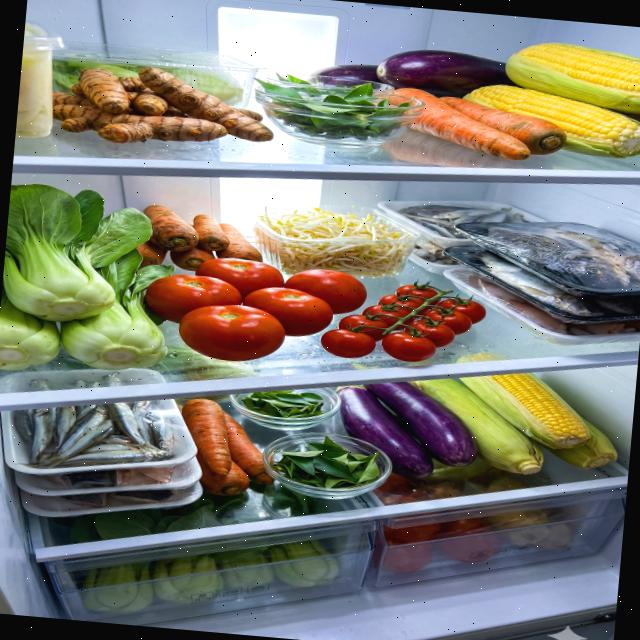bean_sprouts: (252, 202, 416, 286)
carrot: (384, 86, 571, 164), (174, 396, 282, 501), (134, 203, 268, 280)
corn: (400, 362, 624, 482), (458, 34, 640, 161)
curry_leaves: (248, 70, 416, 146), (268, 431, 382, 493), (239, 385, 328, 422)
eggplant: (327, 376, 484, 484), (308, 38, 528, 106)
fish: (10, 388, 180, 478), (476, 251, 638, 321), (482, 222, 640, 293), (396, 198, 532, 245)
pakchoy: (81, 485, 345, 632), (0, 181, 182, 384)
tomato: (140, 250, 370, 372), (318, 270, 488, 370)
turmeric: (48, 58, 279, 156)
